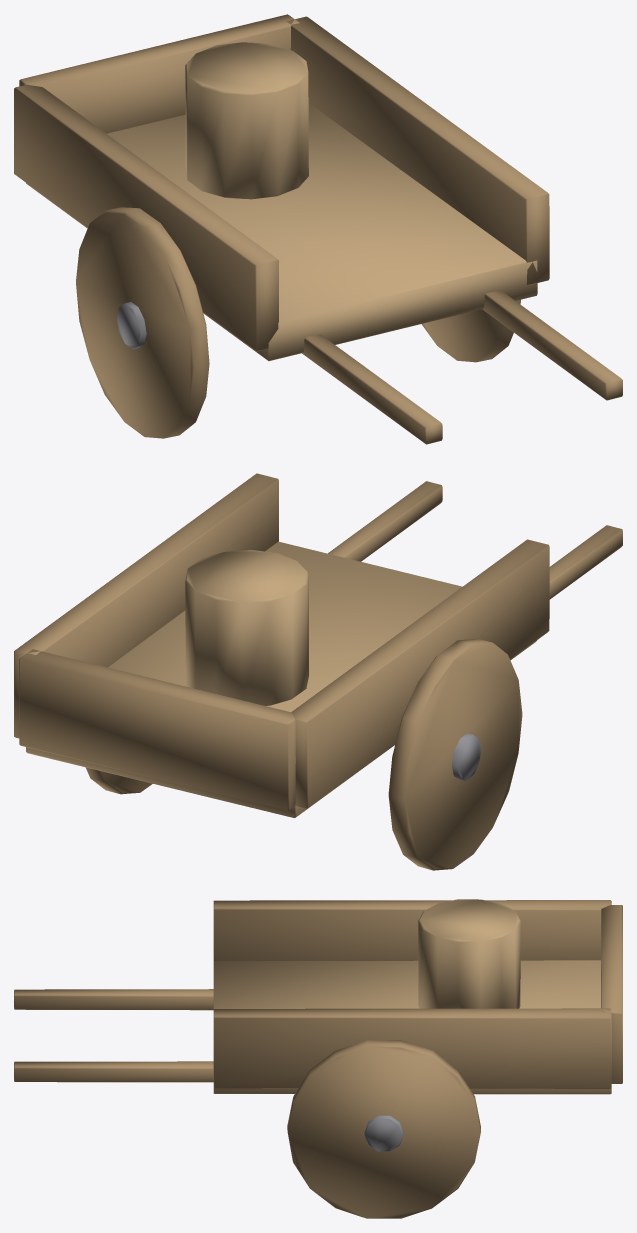
Rendered from prop_cart.glb.
3 views of the same model, one above another, from view 1: azimuth 30°, elevation 25°; view 2: azimuth 150°, elevation 25°; view 3: azimuth 270°, elevation 25° (orthographic). The views are drawn at different scales.
Visible parts, largest first — view 1: prop_cart; view 2: prop_cart; view 3: prop_cart.
Part boxes in pixels (x1,y1,x2,y2): prop_cart: (14, 14, 622, 444); prop_cart: (14, 473, 622, 870); prop_cart: (14, 899, 622, 1218).
Size of the model in its own units: 1.14 by 0.9048 by 2.14.
